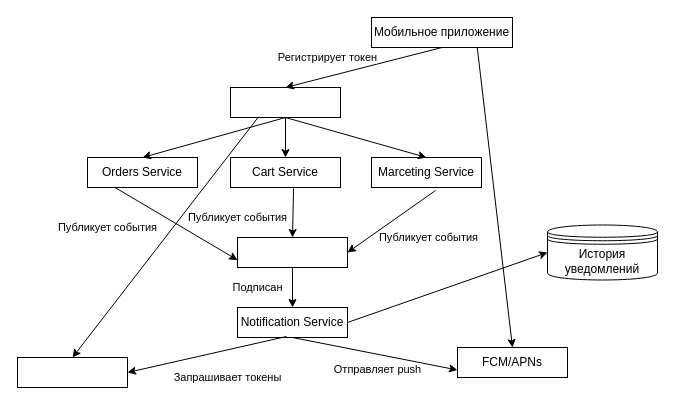
Some shapes in this 675 by 405 pixel diagram are drawn without their labels. The shapes that lost their labels are listed below. From the top down, each one's box as (x1, y1, x2, y2) in pixels, then its label:
(230, 86, 340, 118): API Gateway
(236, 236, 348, 268): Manager Broker
(16, 356, 128, 388): User Service
